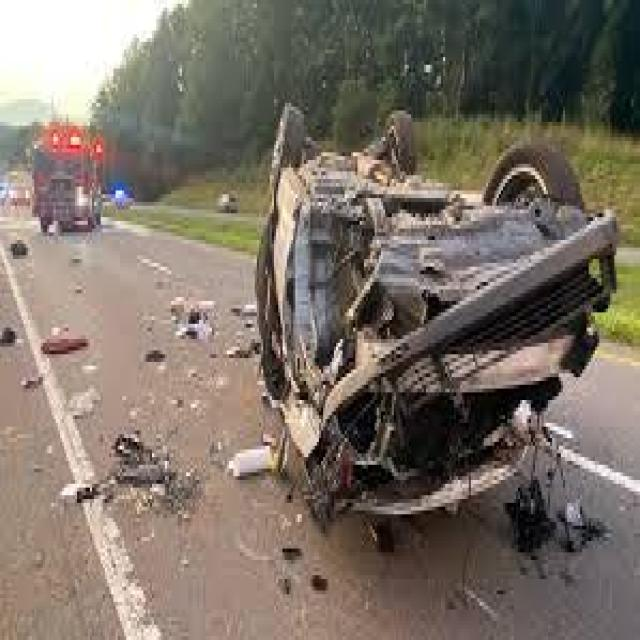severe: (252, 89, 620, 524)
